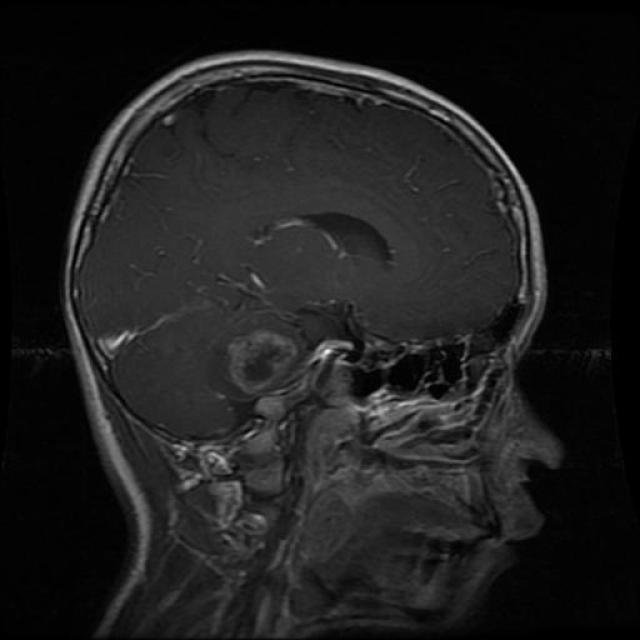glioma: (228, 332, 294, 390)
